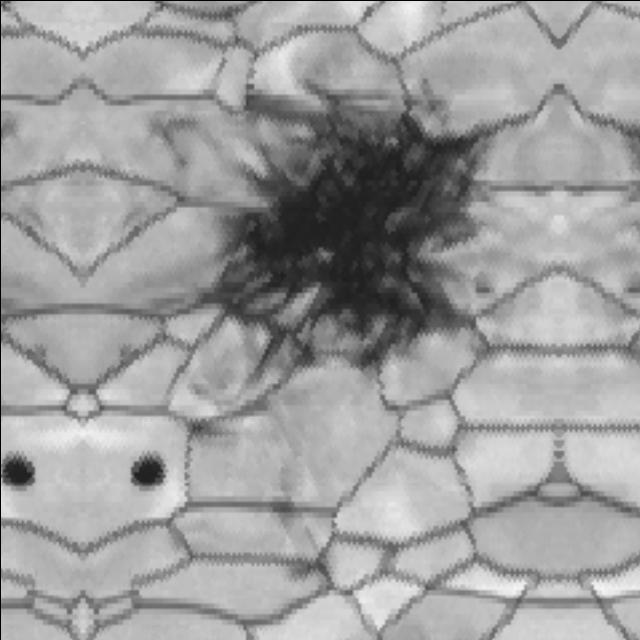good_void: (175, 64, 487, 392), (128, 103, 207, 186), (165, 398, 234, 453), (283, 530, 340, 590), (0, 104, 37, 176), (120, 444, 173, 492), (260, 480, 308, 529), (0, 444, 44, 492), (467, 275, 495, 300), (623, 277, 640, 300)
